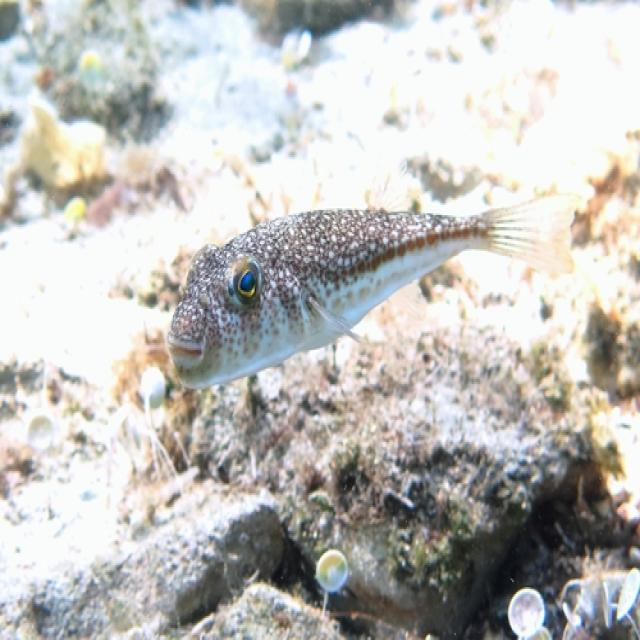Balik: (168, 195, 579, 387)
